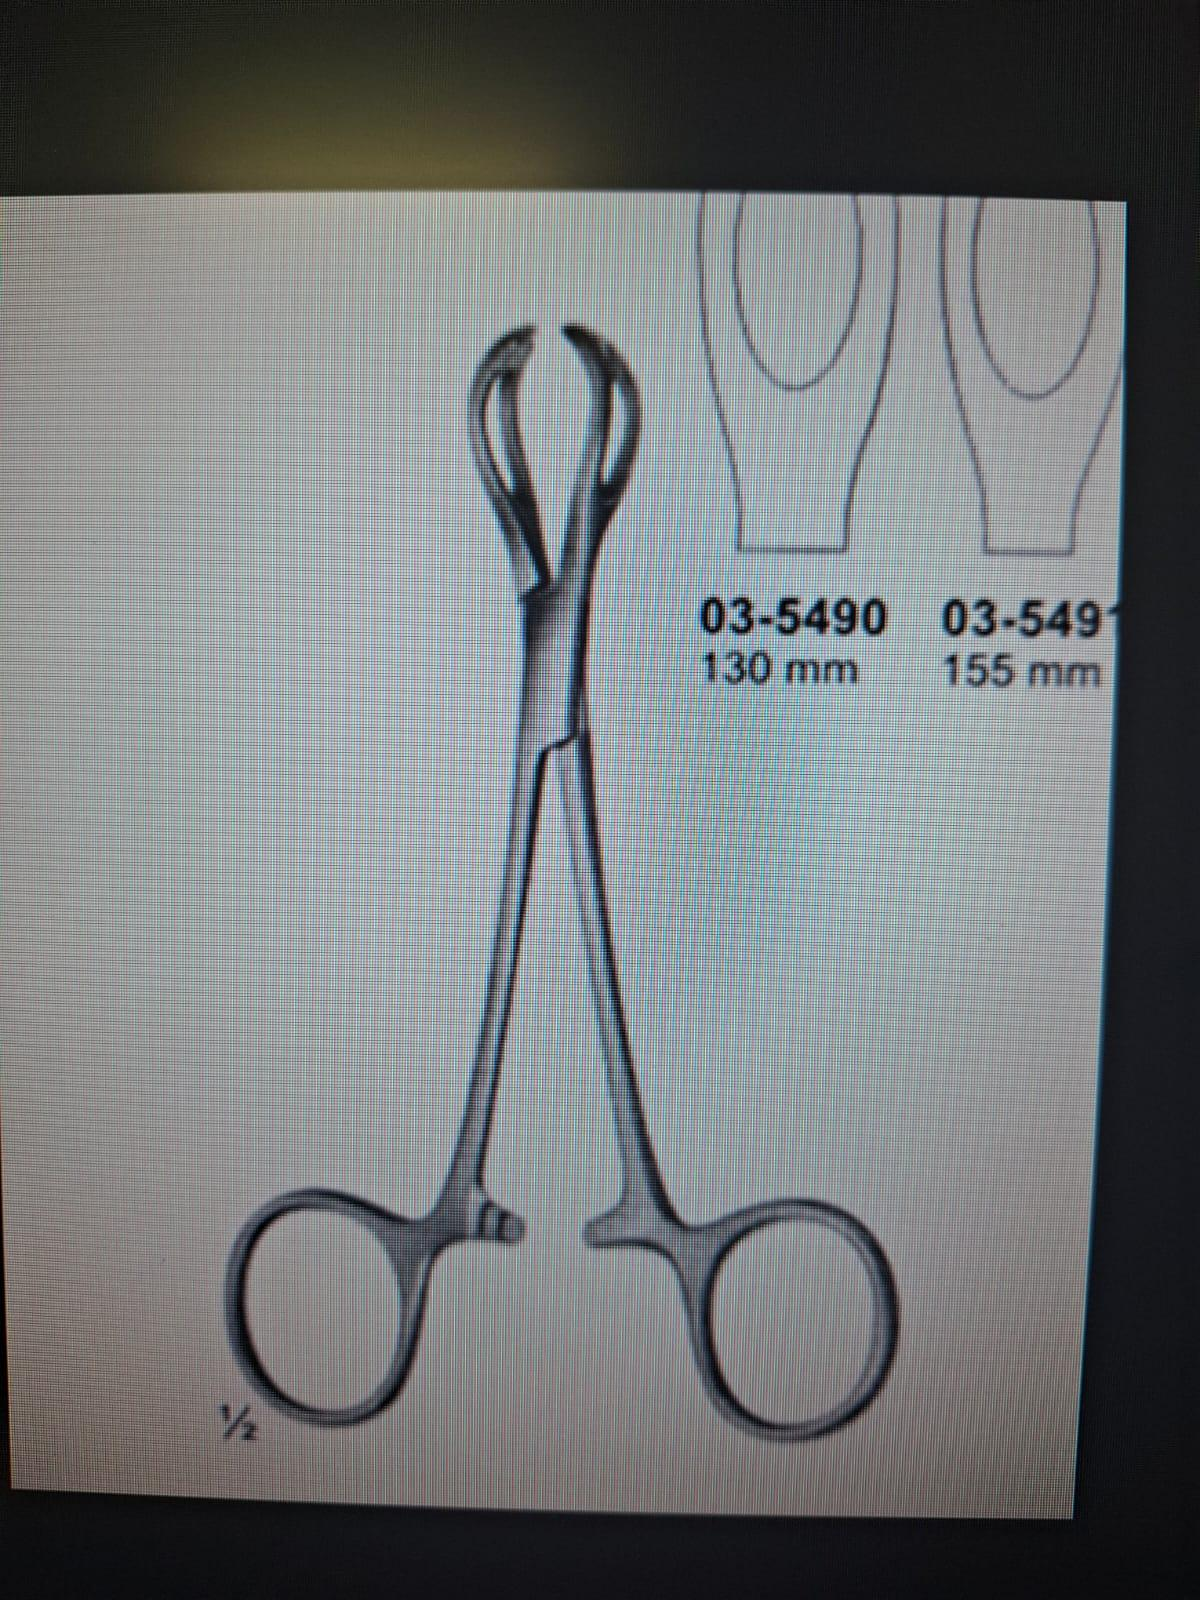Lane Tissue Forceps: (211, 317, 910, 1458)
